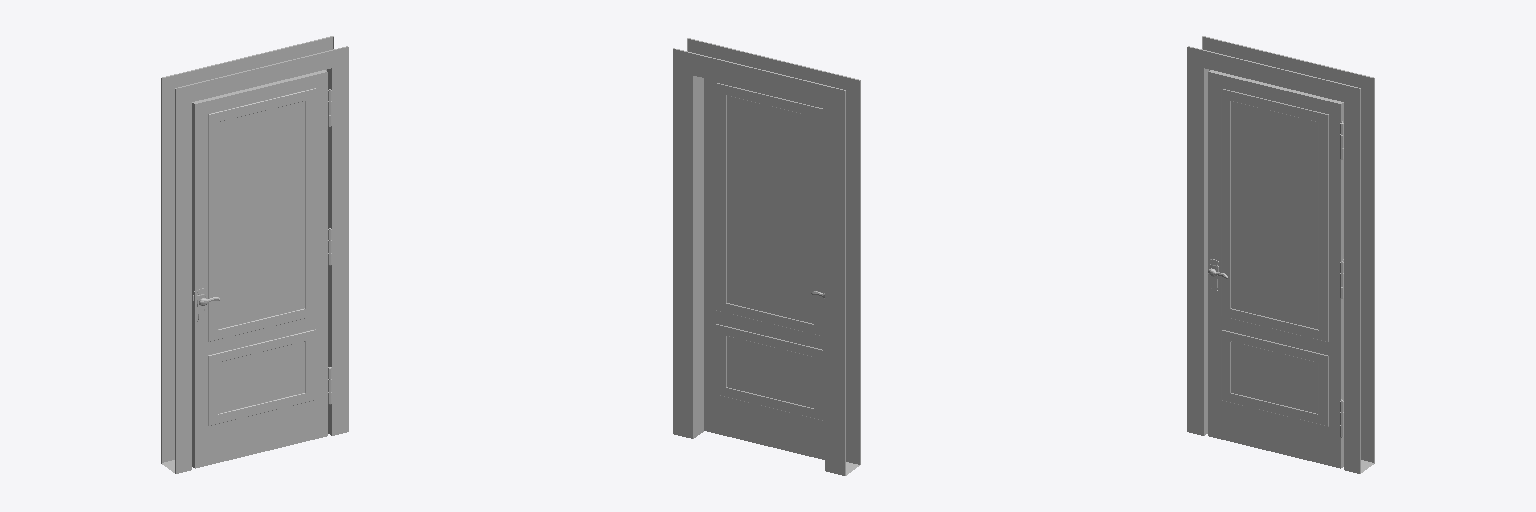
File: door.obj
The picture shows the model from 3 angles: view 1: azimuth 30°, elevation 25°; view 2: azimuth 150°, elevation 25°; view 3: azimuth 330°, elevation 25°; orthographic projection.
Visible parts, largest first — view 1: Door, Frame; view 2: Door, Frame; view 3: Door, Frame.
Part boxes in pixels (bbox=[...]): Door: bbox=[192, 70, 331, 468]; Frame: bbox=[161, 36, 348, 473]; Door: bbox=[704, 78, 824, 459]; Frame: bbox=[673, 38, 860, 475]; Door: bbox=[1208, 70, 1343, 468]; Frame: bbox=[1187, 36, 1374, 473].
Size of the model in its own units: 1.04 by 2.22 by 0.1864.